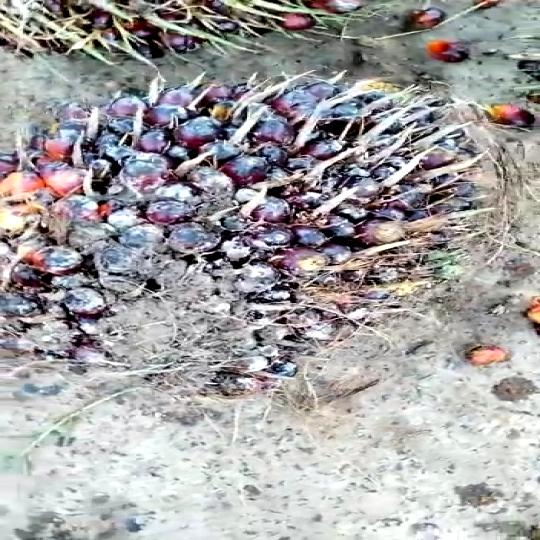mentah: (1, 61, 489, 386)
